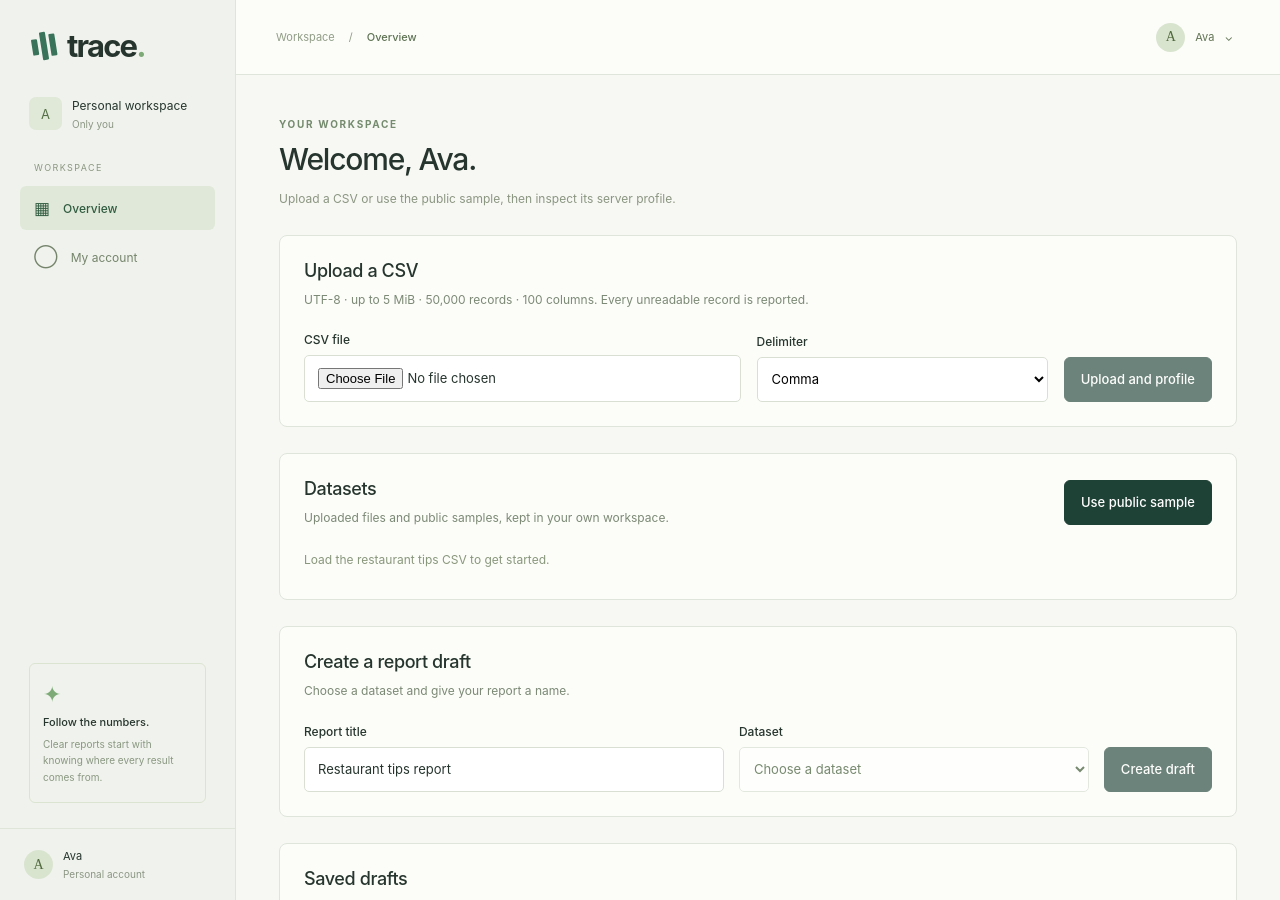
Test: authenticated navigation › preserves signed-in state and shows errors if logout fails
The width and height of the screenshot is (1280, 900).
Expected: the heading "Welcome, Ava." is shown, [279,141,476,177]
What coordinates should you click on to do the following:
click the button "A Ava ⌄"
I would click on:
 (1195, 37)
Its box is [1149,16,1240,58].
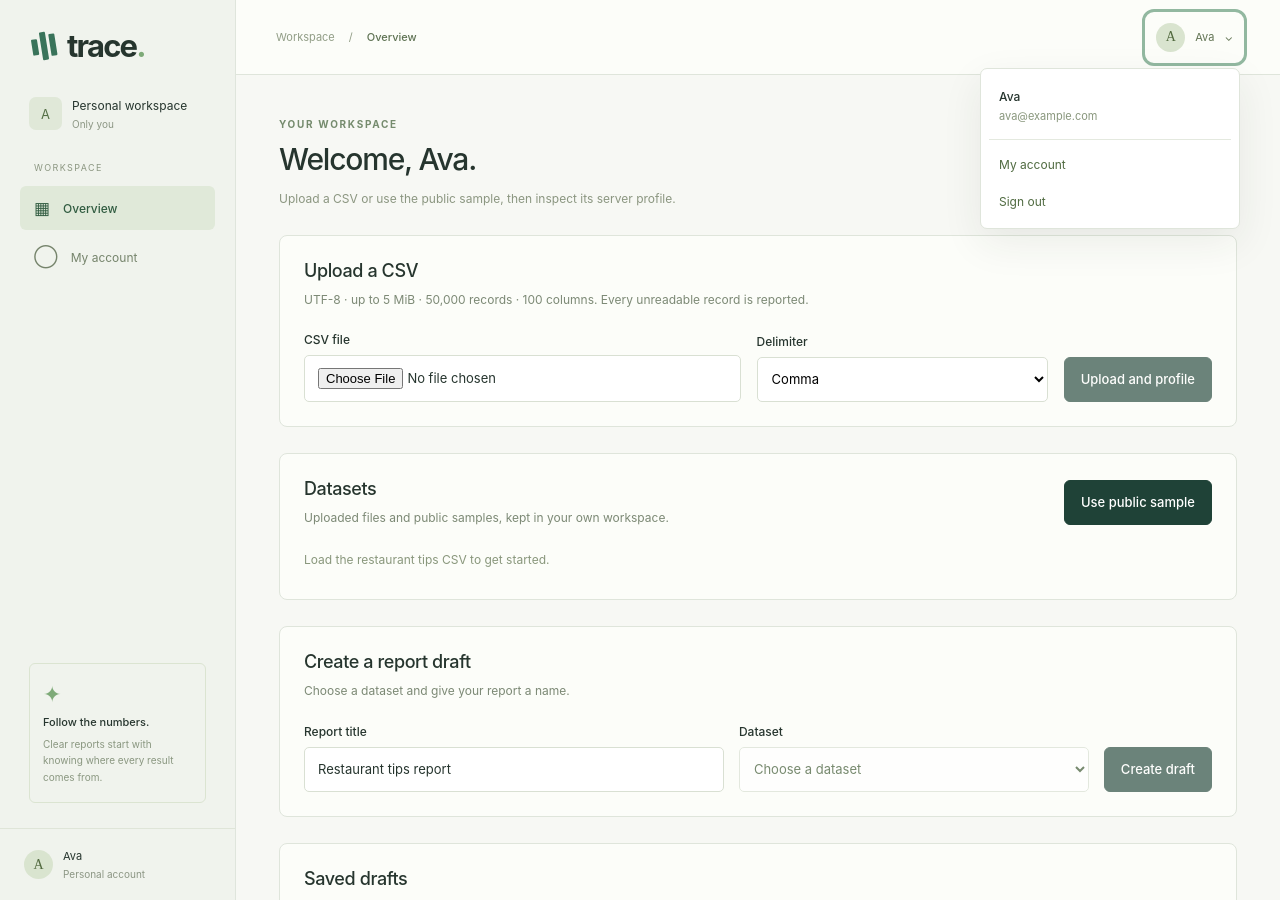
What coordinates should you click on to do the following:
click the button "Sign out"
I would click on:
 (1110, 201)
Its box is [989,182,1231,220].
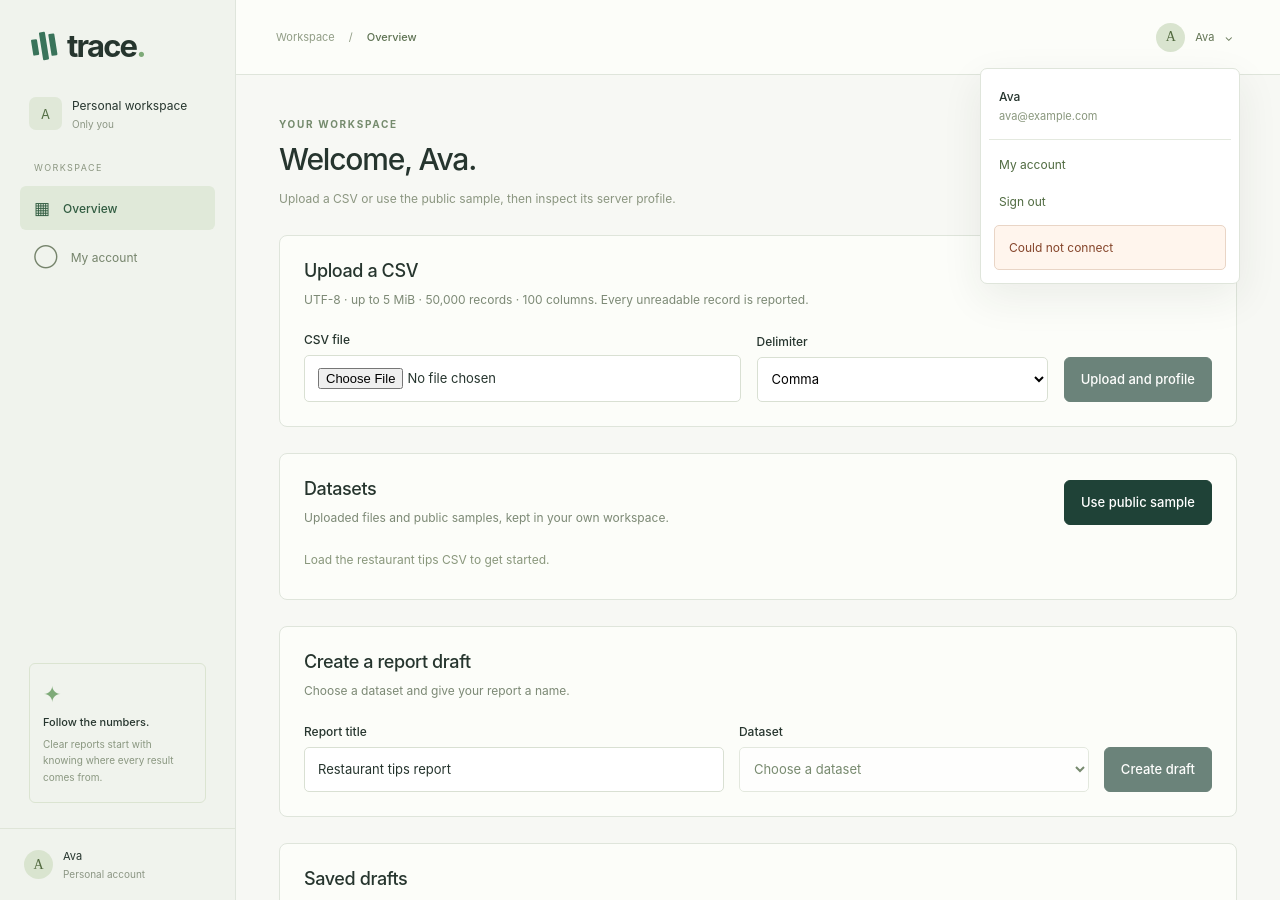
Expected: the heading "Welcome, Ava." is shown, [279,141,476,177]
Expected: the message reads "Could not connect", [1009,240,1113,254]
